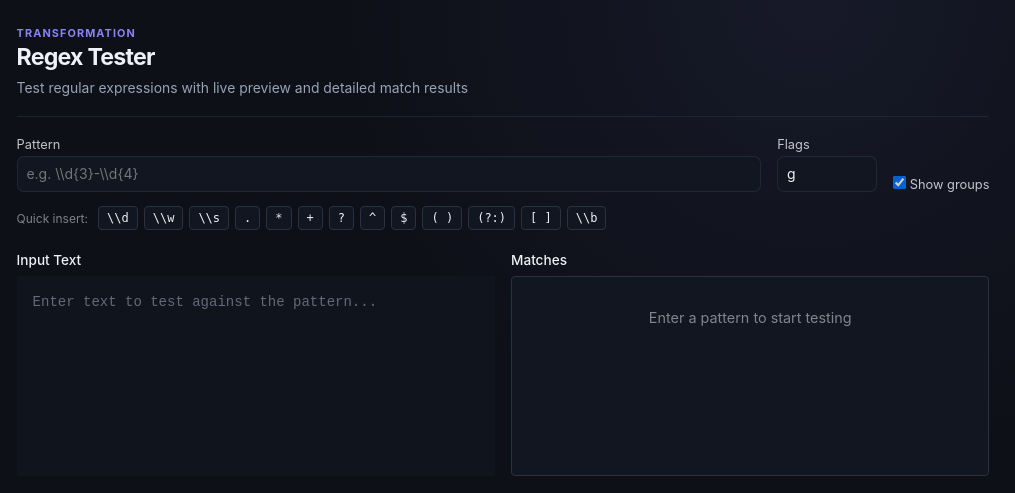
Scenario: RegexTesterPage › reports an invalid expression before input text is provided
The width and height of the screenshot is (1015, 493).
Type "(" into the field with id "regex-pattern" at (389, 174), box [17,156,761,192]
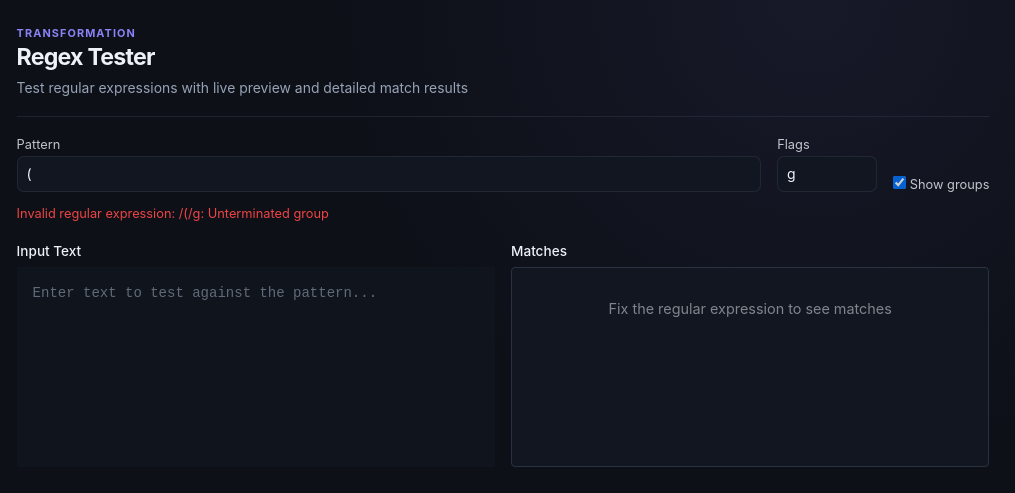
Expected: the text with class "regex-error" shows "Invalid regular expression", [17,206,329,221]
Expected: the text with class "no-matches" shows "Fix the regular expression", [609,300,892,317]
